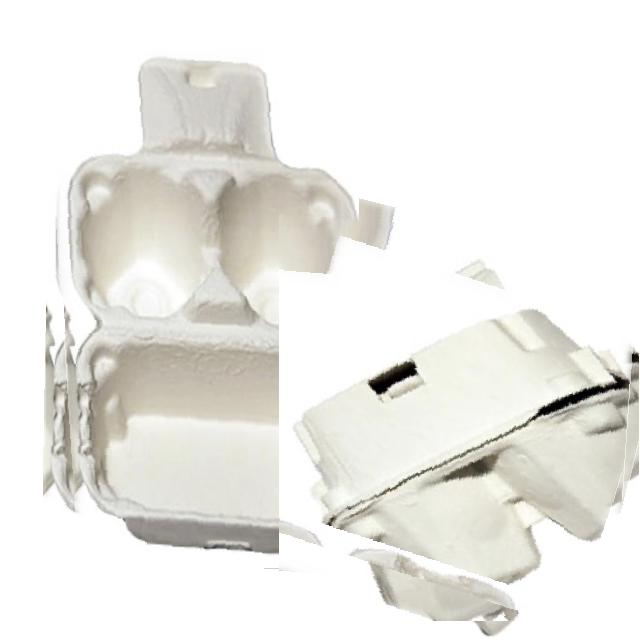biodegradable: (44, 41, 359, 568), (279, 214, 640, 621)
